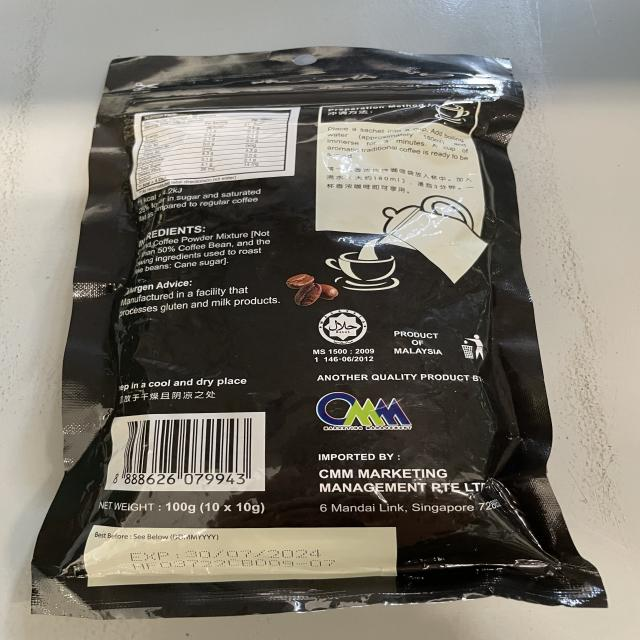object_name: (83, 60, 557, 601)
